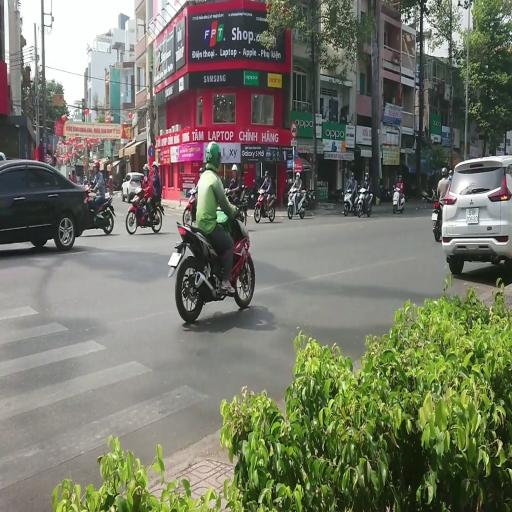bikes: (167, 199, 255, 323), (182, 185, 236, 226), (126, 186, 162, 234), (82, 182, 114, 235), (182, 167, 204, 226), (421, 187, 442, 241), (225, 185, 249, 226), (254, 188, 275, 222), (343, 185, 364, 217), (287, 186, 307, 219), (182, 186, 198, 226), (355, 184, 373, 216), (432, 200, 442, 241), (246, 178, 259, 207), (392, 185, 405, 213), (421, 186, 437, 204), (283, 178, 294, 203), (304, 188, 315, 208)
helmet: (206, 141, 222, 171), (142, 163, 150, 173), (441, 167, 448, 176), (135, 186, 142, 194), (93, 161, 100, 168), (232, 164, 238, 172), (152, 161, 158, 169), (84, 185, 90, 192), (253, 178, 258, 186), (190, 188, 196, 194), (397, 182, 402, 189), (199, 167, 204, 173), (288, 179, 293, 185), (264, 170, 268, 176), (365, 173, 369, 179), (296, 172, 300, 178), (448, 169, 452, 175), (84, 176, 88, 182), (224, 188, 228, 194), (351, 172, 354, 179), (398, 175, 402, 180), (109, 174, 113, 179), (253, 178, 256, 184), (393, 184, 395, 189)
